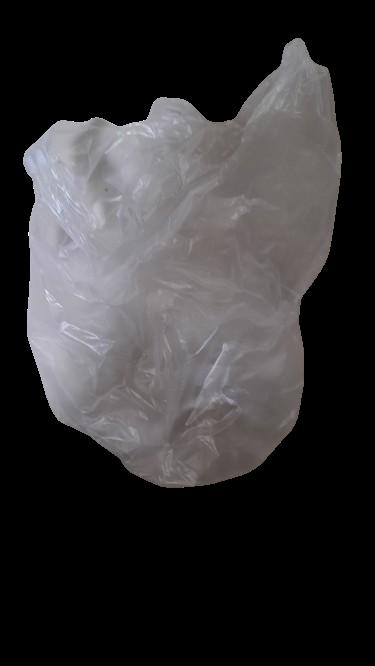Plastik: (10, 32, 351, 490)
